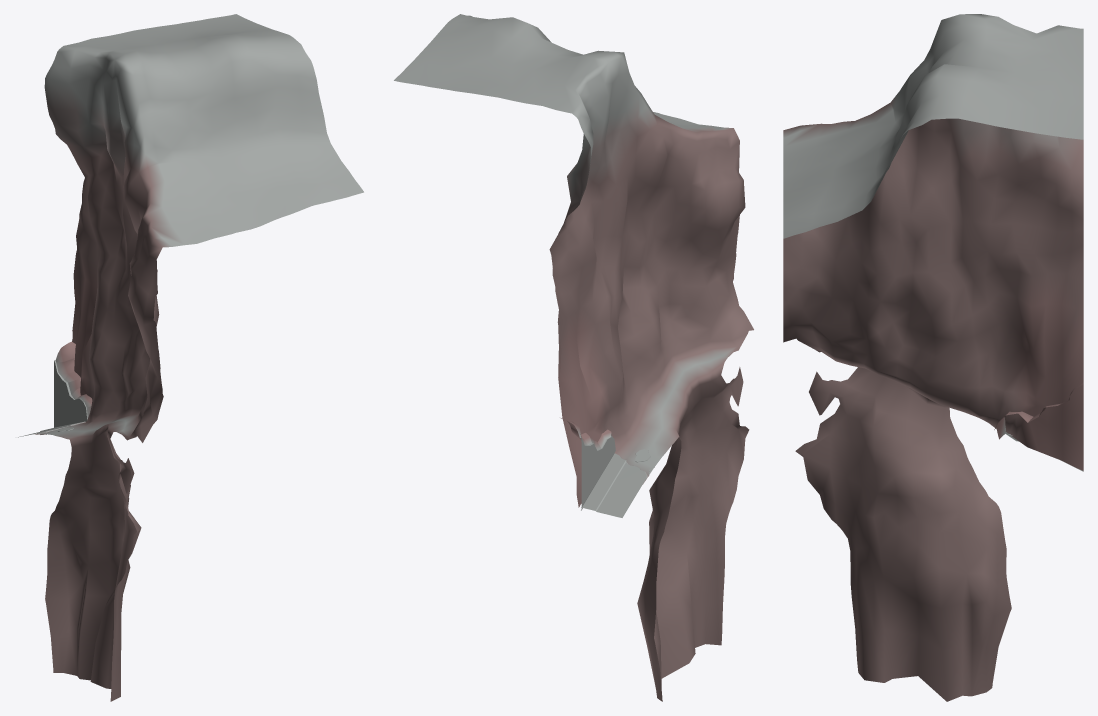
3 views of the same model, side by side, from view 1: azimuth 30°, elevation 25°; view 2: azimuth 150°, elevation 25°; view 3: azimuth 270°, elevation 25° (orthographic). The views are drawn at different scales.
Visible parts, largest first — view 1: G:\FFXIV-MapTools\exports\u5f1\bg\ex4\04_uvs_u5\fld\u5f1\bgp (×13); view 2: G:\FFXIV-MapTools\exports\u5f1\bg\ex4\04_uvs_u5\fld\u5f1\bgp (×10); view 3: G:\FFXIV-MapTools\exports\u5f1\bg\ex4\04_uvs_u5\fld\u5f1\bgp (×11).
Part boxes in pixels (bbox=[...]): G:\FFXIV-MapTools\exports\u5f1\bg\ex4\04_uvs_u5\fld\u5f1\bgp (×13): bbox=[37, 14, 363, 701]; G:\FFXIV-MapTools\exports\u5f1\bg\ex4\04_uvs_u5\fld\u5f1\bgp (×10): bbox=[394, 14, 753, 701]; G:\FFXIV-MapTools\exports\u5f1\bg\ex4\04_uvs_u5\fld\u5f1\bgp (×11): bbox=[783, 14, 1083, 701].
Size of the model in its own units: 128 by 334 by 128.
